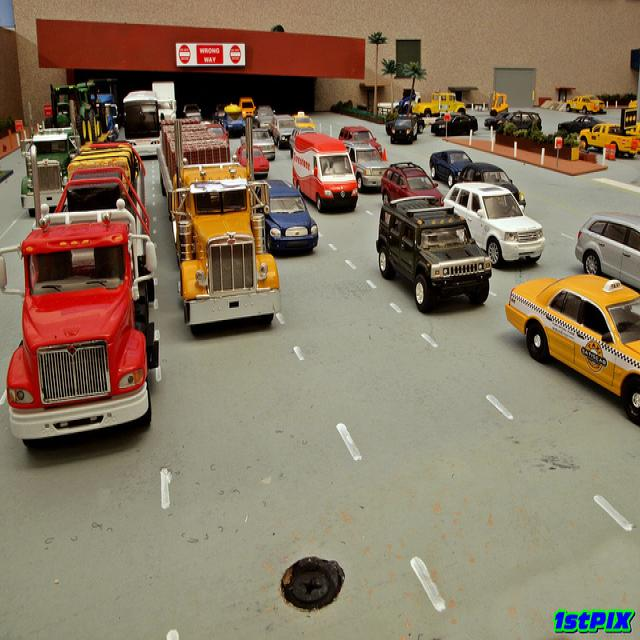Vehicle: (183, 95, 607, 212), (4, 137, 162, 450), (161, 117, 279, 321), (502, 272, 640, 422), (374, 194, 492, 315), (20, 79, 119, 219), (442, 179, 546, 267), (445, 181, 545, 266), (291, 132, 361, 214), (576, 212, 640, 290), (265, 179, 319, 254), (460, 160, 527, 208), (579, 107, 640, 158), (380, 158, 443, 204), (122, 89, 162, 158), (343, 141, 388, 191), (430, 151, 474, 188), (338, 126, 383, 156), (412, 90, 466, 114), (389, 112, 420, 146), (152, 81, 176, 119), (390, 113, 418, 144), (252, 128, 276, 162)
